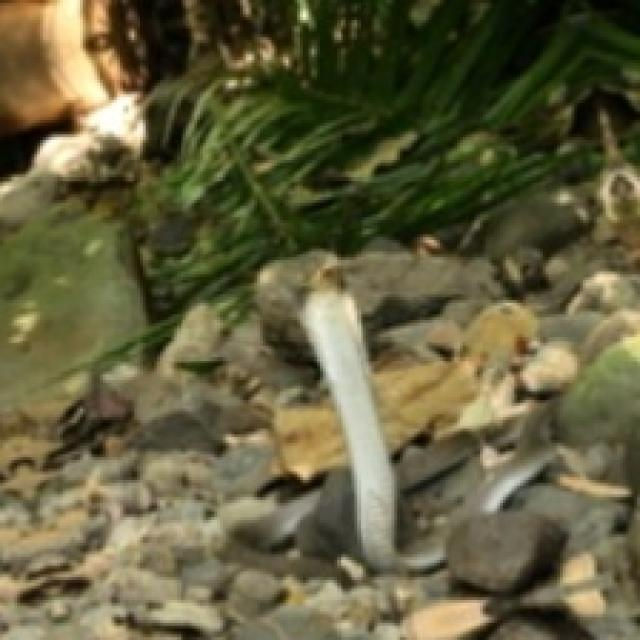king cobra: (300, 263, 406, 569)
